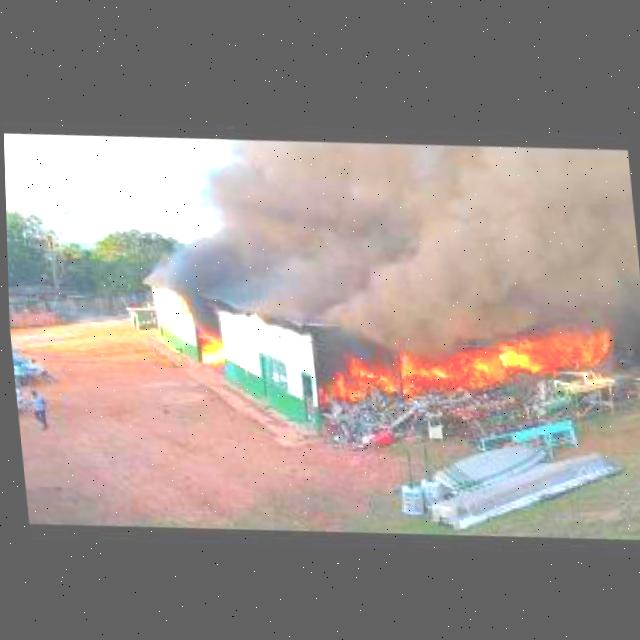Fire: (496, 300, 616, 371), (389, 323, 504, 392), (311, 335, 397, 408), (191, 315, 229, 360)
Smoke: (158, 98, 640, 373)
